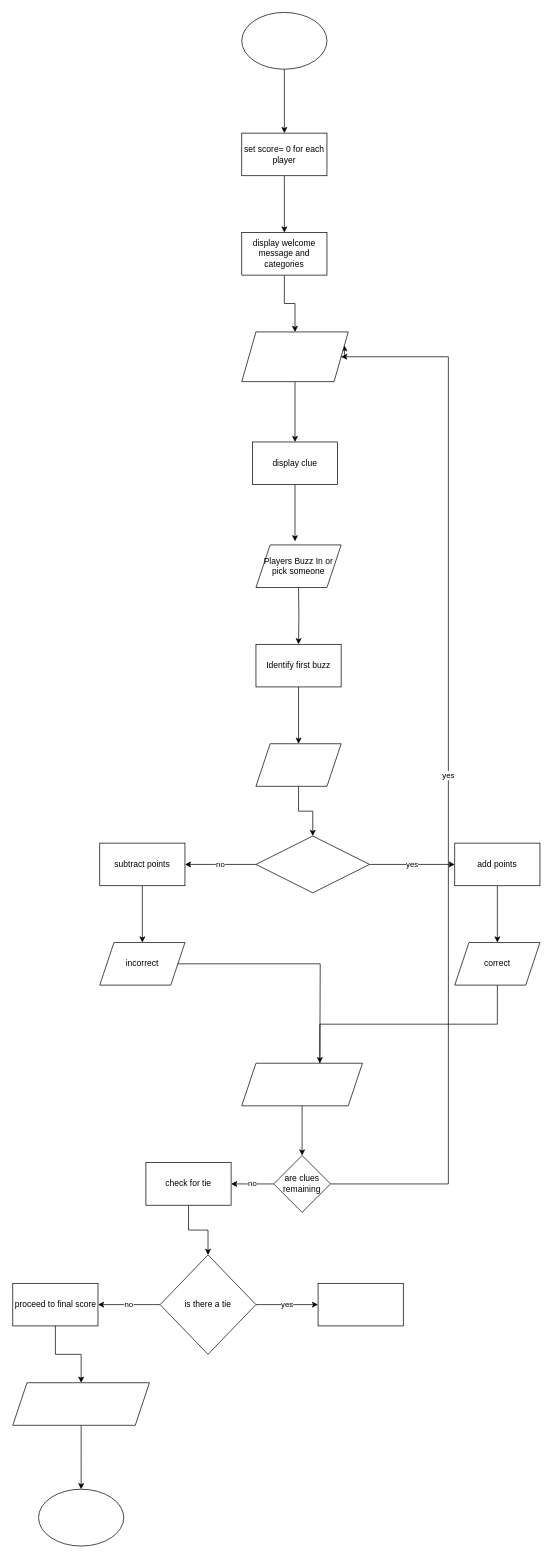
Image size: 552x1558. Some labels were removed from this diagram. Each missing label, with the centre of its shape:
"display final score & winner" belongs at point 80,1403.
"display updated score" belongs at point 301,1084.
"Is answer correct & properly phrased" belongs at point 312,864.
"player answers" belongs at point 298,764.
"player selects clue" belongs at point 294,356.
"start" belongs at point 284,40.
"sudden death question" belongs at point 360,1304.
